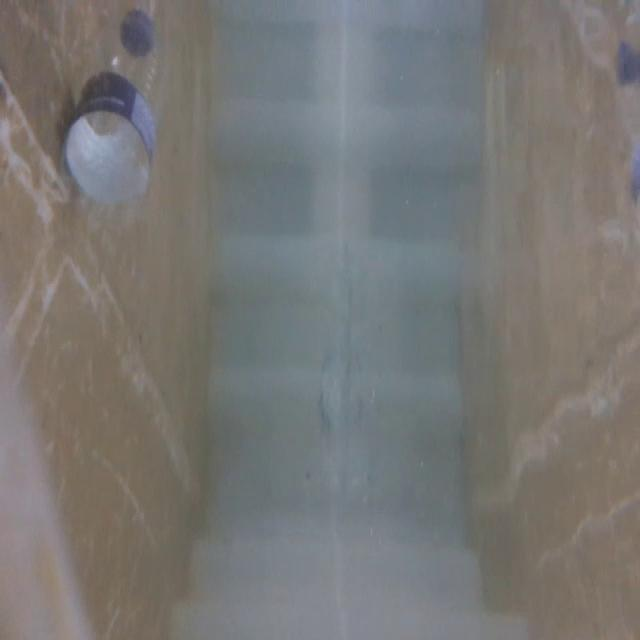plastic bottle: (46, 9, 192, 256)
